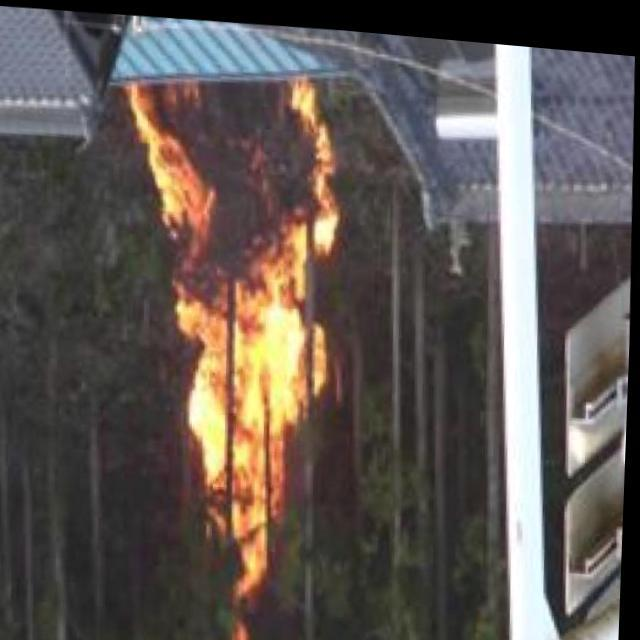fire: (121, 66, 347, 582)
